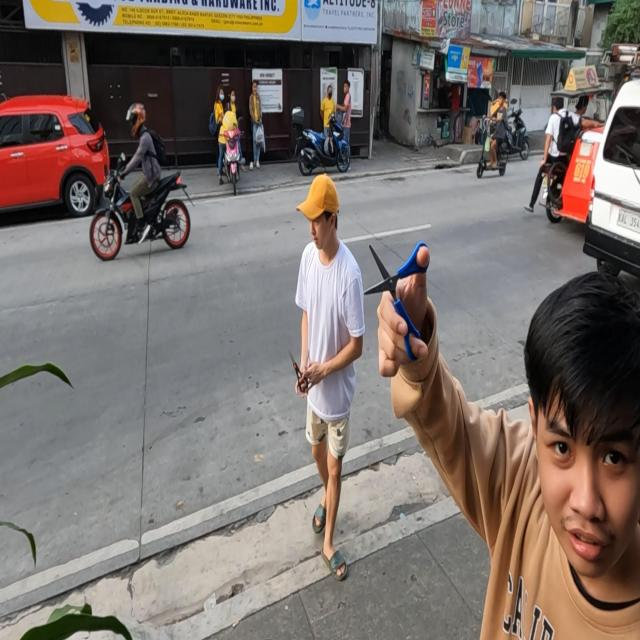scissor: (365, 242, 430, 362), (288, 349, 308, 392)
